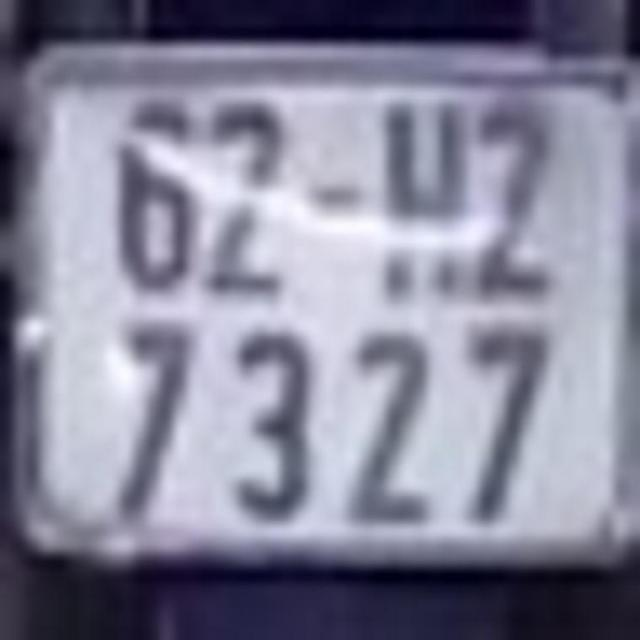2: (348, 330, 438, 525), (474, 98, 557, 301), (206, 100, 285, 300)
3: (238, 326, 308, 524)
6: (117, 94, 195, 284)
7: (462, 324, 550, 524), (114, 323, 193, 522)
H: (378, 102, 471, 292)
